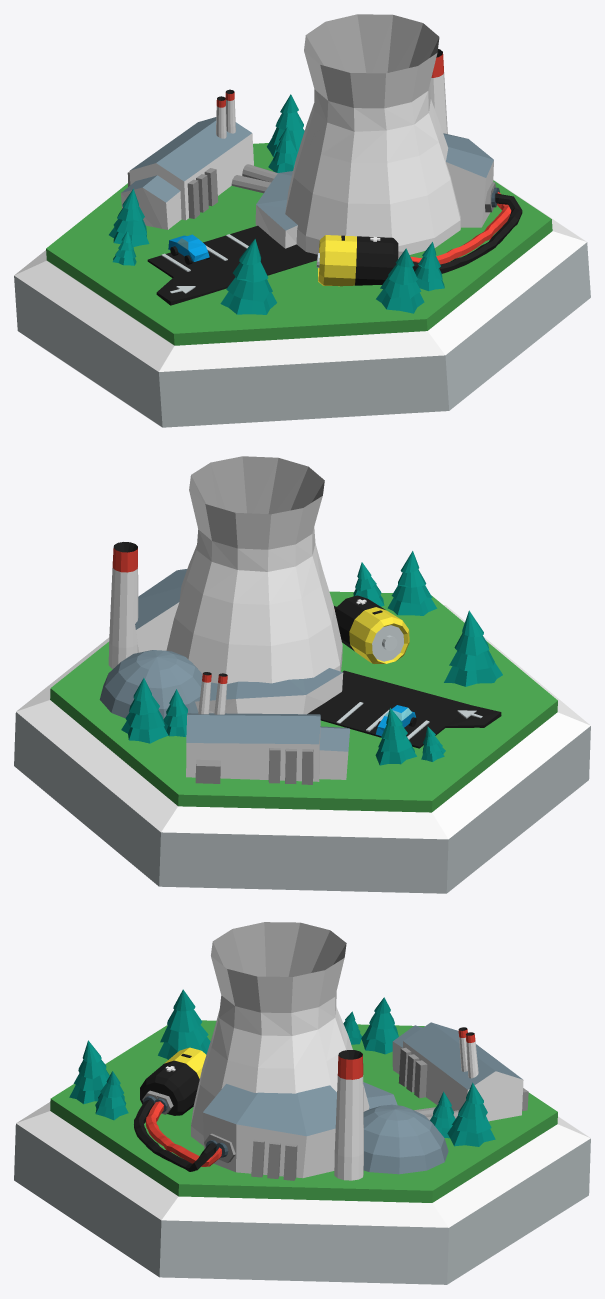
Rendered from Power_plant.glb.
The picture shows the model from 3 angles, top to bottom: view 1: azimuth 30°, elevation 25°; view 2: azimuth 150°, elevation 25°; view 3: azimuth 270°, elevation 25°; orthographic projection.
Visible parts, largest first — view 1: group31636515, group1871556265, group254207201, group1134105914, group1898513285, group1856934127, group536157054, group1265225724, group445934908, group1434711521, group539473816, group506372634 (+7 smaller); view 2: group31636515, group254207201, group1871556265, group1134105914, group1898513285, group311954969, group1265225724, group1791900506, group1856934127, group445934908, group536157054, group1434711521 (+6 smaller); view 3: group31636515, group1871556265, group254207201, group1856934127, group1134105914, group311954969, group1791900506, group1434711521, group539473816, group506372634, group1511970868, group1379101099 (+6 smaller).
Part boxes in pixels (x1=…): group31636515: x1=14, y1=179, x2=590, y2=427; group1871556265: x1=285, y1=14, x2=460, y2=254; group254207201: x1=46, y1=143, x2=552, y2=345; group1134105914: x1=129, y1=117, x2=253, y2=220; group1898513285: x1=147, y1=225, x2=317, y2=305; group1856934127: x1=443, y1=133, x2=493, y2=227; group536157054: x1=121, y1=175, x2=181, y2=229; group1265225724: x1=255, y1=171, x2=297, y2=248; group445934908: x1=318, y1=235, x2=356, y2=286; group1434711521: x1=355, y1=236, x2=398, y2=285; group539473816: x1=412, y1=193, x2=522, y2=273; group506372634: x1=410, y1=192, x2=511, y2=264; group31636515: x1=14, y1=605, x2=590, y2=893; group254207201: x1=50, y1=591, x2=557, y2=812; group1871556265: x1=166, y1=456, x2=342, y2=683; group1134105914: x1=186, y1=713, x2=320, y2=781; group1898513285: x1=307, y1=670, x2=501, y2=748; group311954969: x1=99, y1=650, x2=202, y2=719; group1265225724: x1=195, y1=668, x2=343, y2=714; group1791900506: x1=108, y1=542, x2=138, y2=668; group1856934127: x1=135, y1=569, x2=187, y2=652; group445934908: x1=349, y1=607, x2=409, y2=663; group536157054: x1=319, y1=726, x2=349, y2=779; group1434711521: x1=335, y1=595, x2=385, y2=651; group31636515: x1=14, y1=1102, x2=590, y2=1284; group1871556265: x1=191, y1=922, x2=369, y2=1146; group254207201: x1=50, y1=1020, x2=557, y2=1202; group1856934127: x1=202, y1=1084, x2=336, y2=1178; group1134105914: x1=403, y1=1022, x2=523, y2=1121; group311954969: x1=363, y1=1104, x2=448, y2=1174; group1791900506: x1=334, y1=1050, x2=363, y2=1180; group1434711521: x1=140, y1=1060, x2=199, y2=1115; group539473816: x1=134, y1=1099, x2=216, y2=1171; group506372634: x1=145, y1=1101, x2=221, y2=1166; group1511970868: x1=160, y1=1025, x2=208, y2=1051; group1379101099: x1=167, y1=1009, x2=202, y2=1032.
Bounding box in the file's own units: 1.33 × 0.828 × 1.53.
